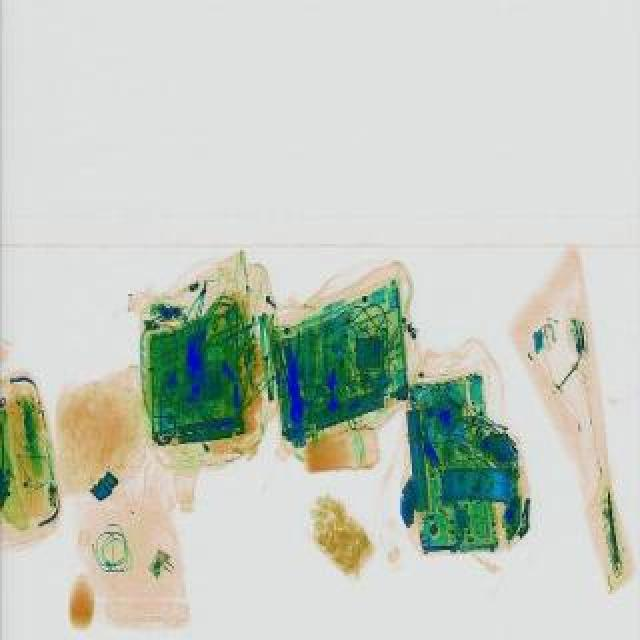scissors: (276, 334, 312, 426)
